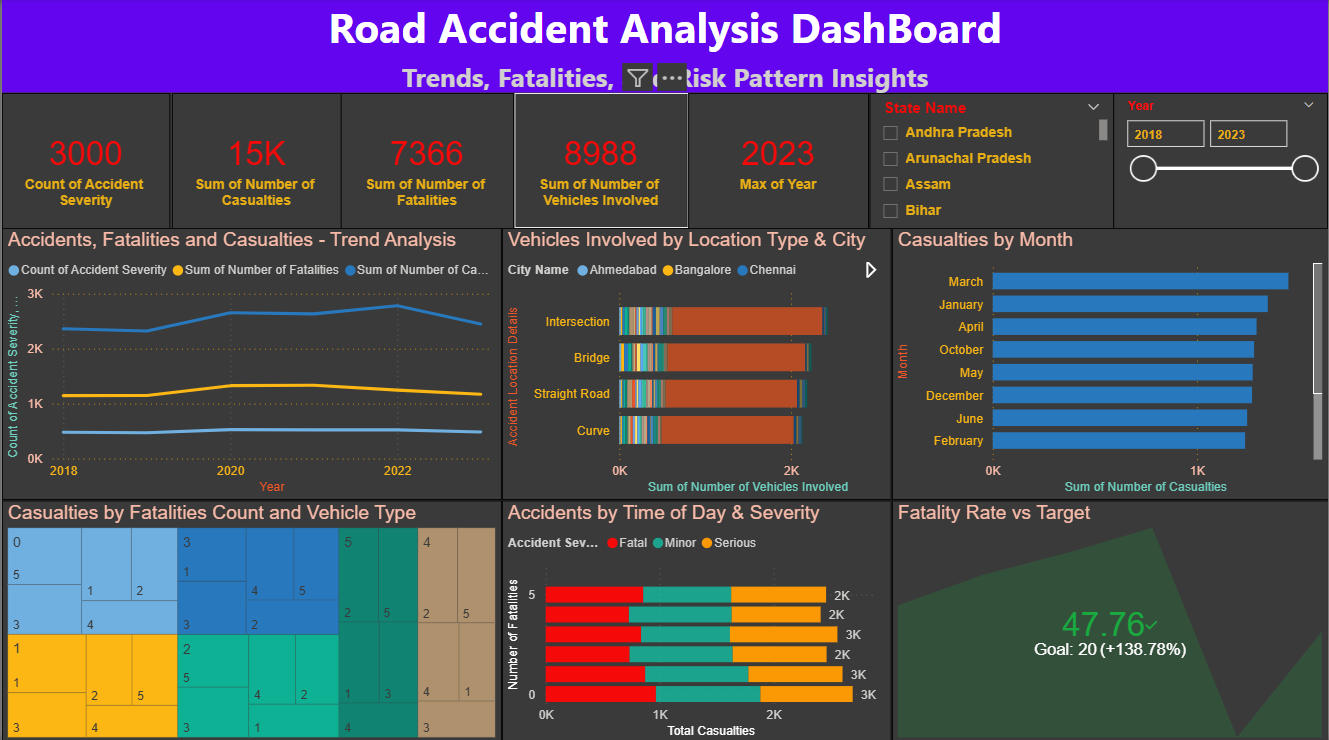

The dashboard page shown, as its layout file describes it:
{"tool":"powerbi","page":{"name":"Page 1","canvas":[1280,720],"ordinal":0},"visuals":[{"type":"textbox","title":"Road Accident Analysis DashBoard","box":[0,0,1280,91.4],"z":0},{"type":"card","title":"Total Accidents","fields":{"Values":["CountNonNull(accident_prediction_india.Accident Severity)"]},"box":[0,91.2,162.5,131.2],"z":1000},{"type":"card","fields":{"Values":["Sum(accident_prediction_india.Number of Casualties)"]},"box":[163.8,91.2,163.8,131.2],"z":2000},{"type":"card","fields":{"Values":["Sum(accident_prediction_india.Number of Fatalities)"]},"box":[327.1,91.4,167.1,131.4],"z":3000},{"type":"card","fields":{"Values":["Sum(accident_prediction_india.Number of Vehicles Involved)"]},"box":[495,91.2,167.5,131.2],"z":4000},{"type":"card","fields":{"Values":["Max(accident_prediction_india.Year)"]},"box":[662.9,91.4,174.3,131.4],"z":5000},{"type":"slicer","fields":{"Values":["accident_prediction_india.State Name"]},"box":[837.1,91.4,235.7,131.4],"z":6000},{"type":"slicer","fields":{"Values":["accident_prediction_india.Year"]},"box":[1072.9,91.4,207.1,131.4],"z":7000},{"type":"barChart","title":"Vehicles Involved by Location Type & City","fields":{"Series":["accident_prediction_india.City Name"],"Y":["Sum(accident_prediction_india.Number of Vehicles Involved)"],"Category":["accident_prediction_india.Accident Location Details"]},"box":[482.5,222.5,376.2,262.5],"z":8000},{"type":"clusteredBarChart","title":"Casualties by Month","fields":{"Category":["accident_prediction_india.Month"],"Y":["Sum(accident_prediction_india.Number of Casualties)"]},"box":[858.8,222.5,421.2,262.5],"z":9000},{"type":"lineChart","title":"Accidents, Fatalities and Casualties - Trend Analysis","fields":{"Category":["accident_prediction_india.Year"],"Y":["CountNonNull(accident_prediction_india.Accident Severity)","Sum(accident_prediction_india.Number of Fatalities)","Sum(accident_prediction_india.Number of Casualties)"]},"box":[0,222.5,482.5,262.5],"z":10000},{"type":"kpi","title":"Fatality Rate vs Target","fields":{"Indicator":["accident_prediction_india.Fatality Rate %"],"TrendLine":["accident_prediction_india.Year"],"Goal":["Sum(Table.Target)"]},"box":[858.8,485,421.2,235],"z":11000},{"type":"treemap","title":"Casualties by Fatalities Count and Vehicle Type","fields":{"Group":["accident_prediction_india.Number of Fatalities"],"Values":["Sum(accident_prediction_india.Number of Casualties)"],"Details":["accident_prediction_india.Number of Vehicles Involved"]},"box":[0,485,482.5,235],"z":12000},{"type":"barChart","title":"Accidents by Time of Day & Severity","fields":{"Category":["accident_prediction_india.Number of Fatalities"],"Series":["accident_prediction_india.Accident Severity"],"Y":["accident_prediction_india.Total Casualties"]},"box":[482.5,485,376.2,235],"z":13000}]}

Visuals, with their boxes in screenshot pixels (x1, y1, x2, y2), scaled from the page's 1280x720 canvas onto the 1329x740 screenshot:
"Road Accident Analysis DashBoard" textbox: l=0, t=0, r=1328, b=94
"Total Accidents" card: l=0, t=94, r=169, b=229
card - Sum(accident_prediction_india.Number of Casualties): l=170, t=94, r=340, b=229
card - Sum(accident_prediction_india.Number of Fatalities): l=340, t=94, r=513, b=229
card - Sum(accident_prediction_india.Number of Vehicles Involved): l=514, t=94, r=688, b=229
card - Max(accident_prediction_india.Year): l=688, t=94, r=869, b=229
slicer - accident_prediction_india.State Name: l=869, t=94, r=1114, b=229
slicer - accident_prediction_india.Year: l=1114, t=94, r=1328, b=229
"Vehicles Involved by Location Type & City" barChart: l=501, t=229, r=892, b=498
"Casualties by Month" clusteredBarChart: l=892, t=229, r=1328, b=498
"Accidents, Fatalities and Casualties - Trend Analysis" lineChart: l=0, t=229, r=501, b=498
"Fatality Rate vs Target" kpi: l=892, t=498, r=1328, b=739
"Casualties by Fatalities Count and Vehicle Type" treemap: l=0, t=498, r=501, b=739
"Accidents by Time of Day & Severity" barChart: l=501, t=498, r=892, b=739
